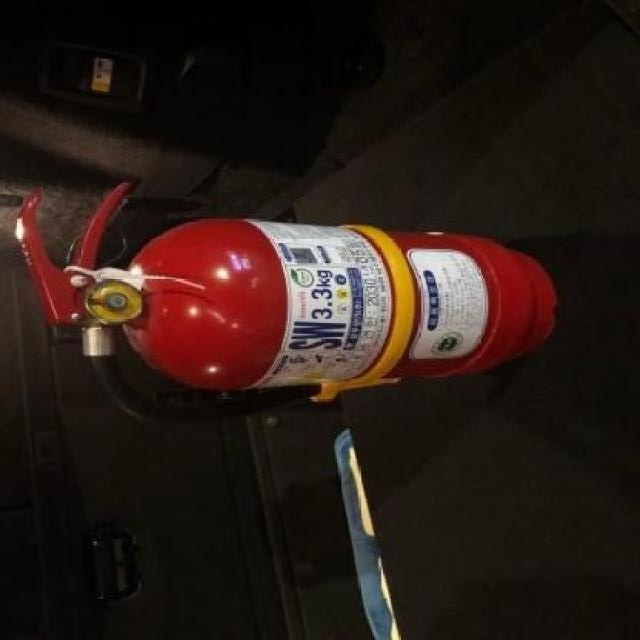fire extinguisher: (16, 182, 558, 421)
